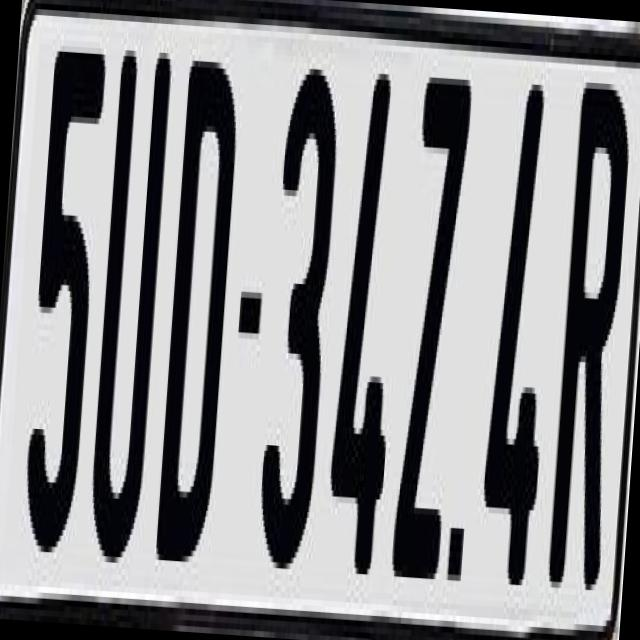3: (255, 50, 343, 564)
4: (322, 54, 418, 558), (476, 82, 567, 598)
5: (20, 39, 111, 548)
D: (150, 59, 236, 586)
R: (546, 64, 632, 584)
U: (86, 32, 174, 581)
Z: (390, 59, 480, 568)
